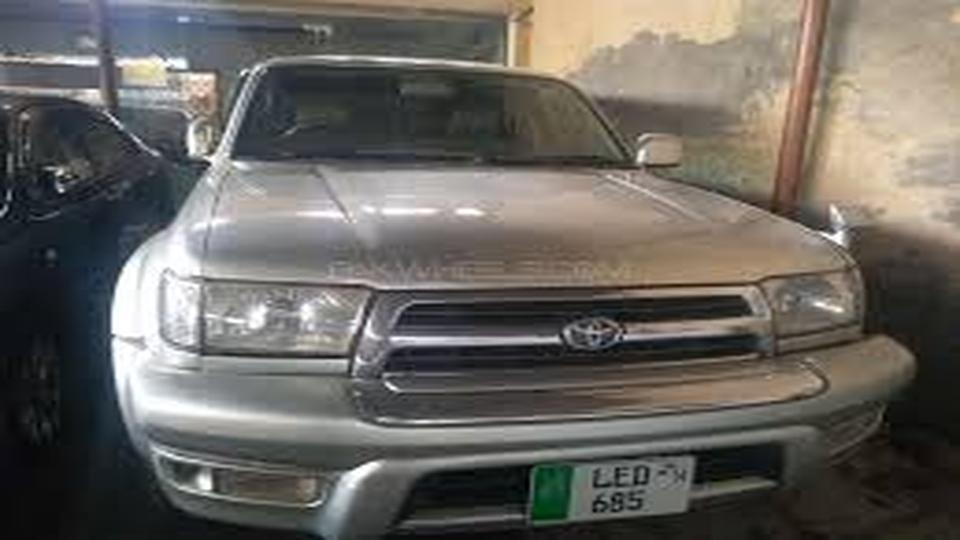NumberPlate: (529, 456, 715, 534)
